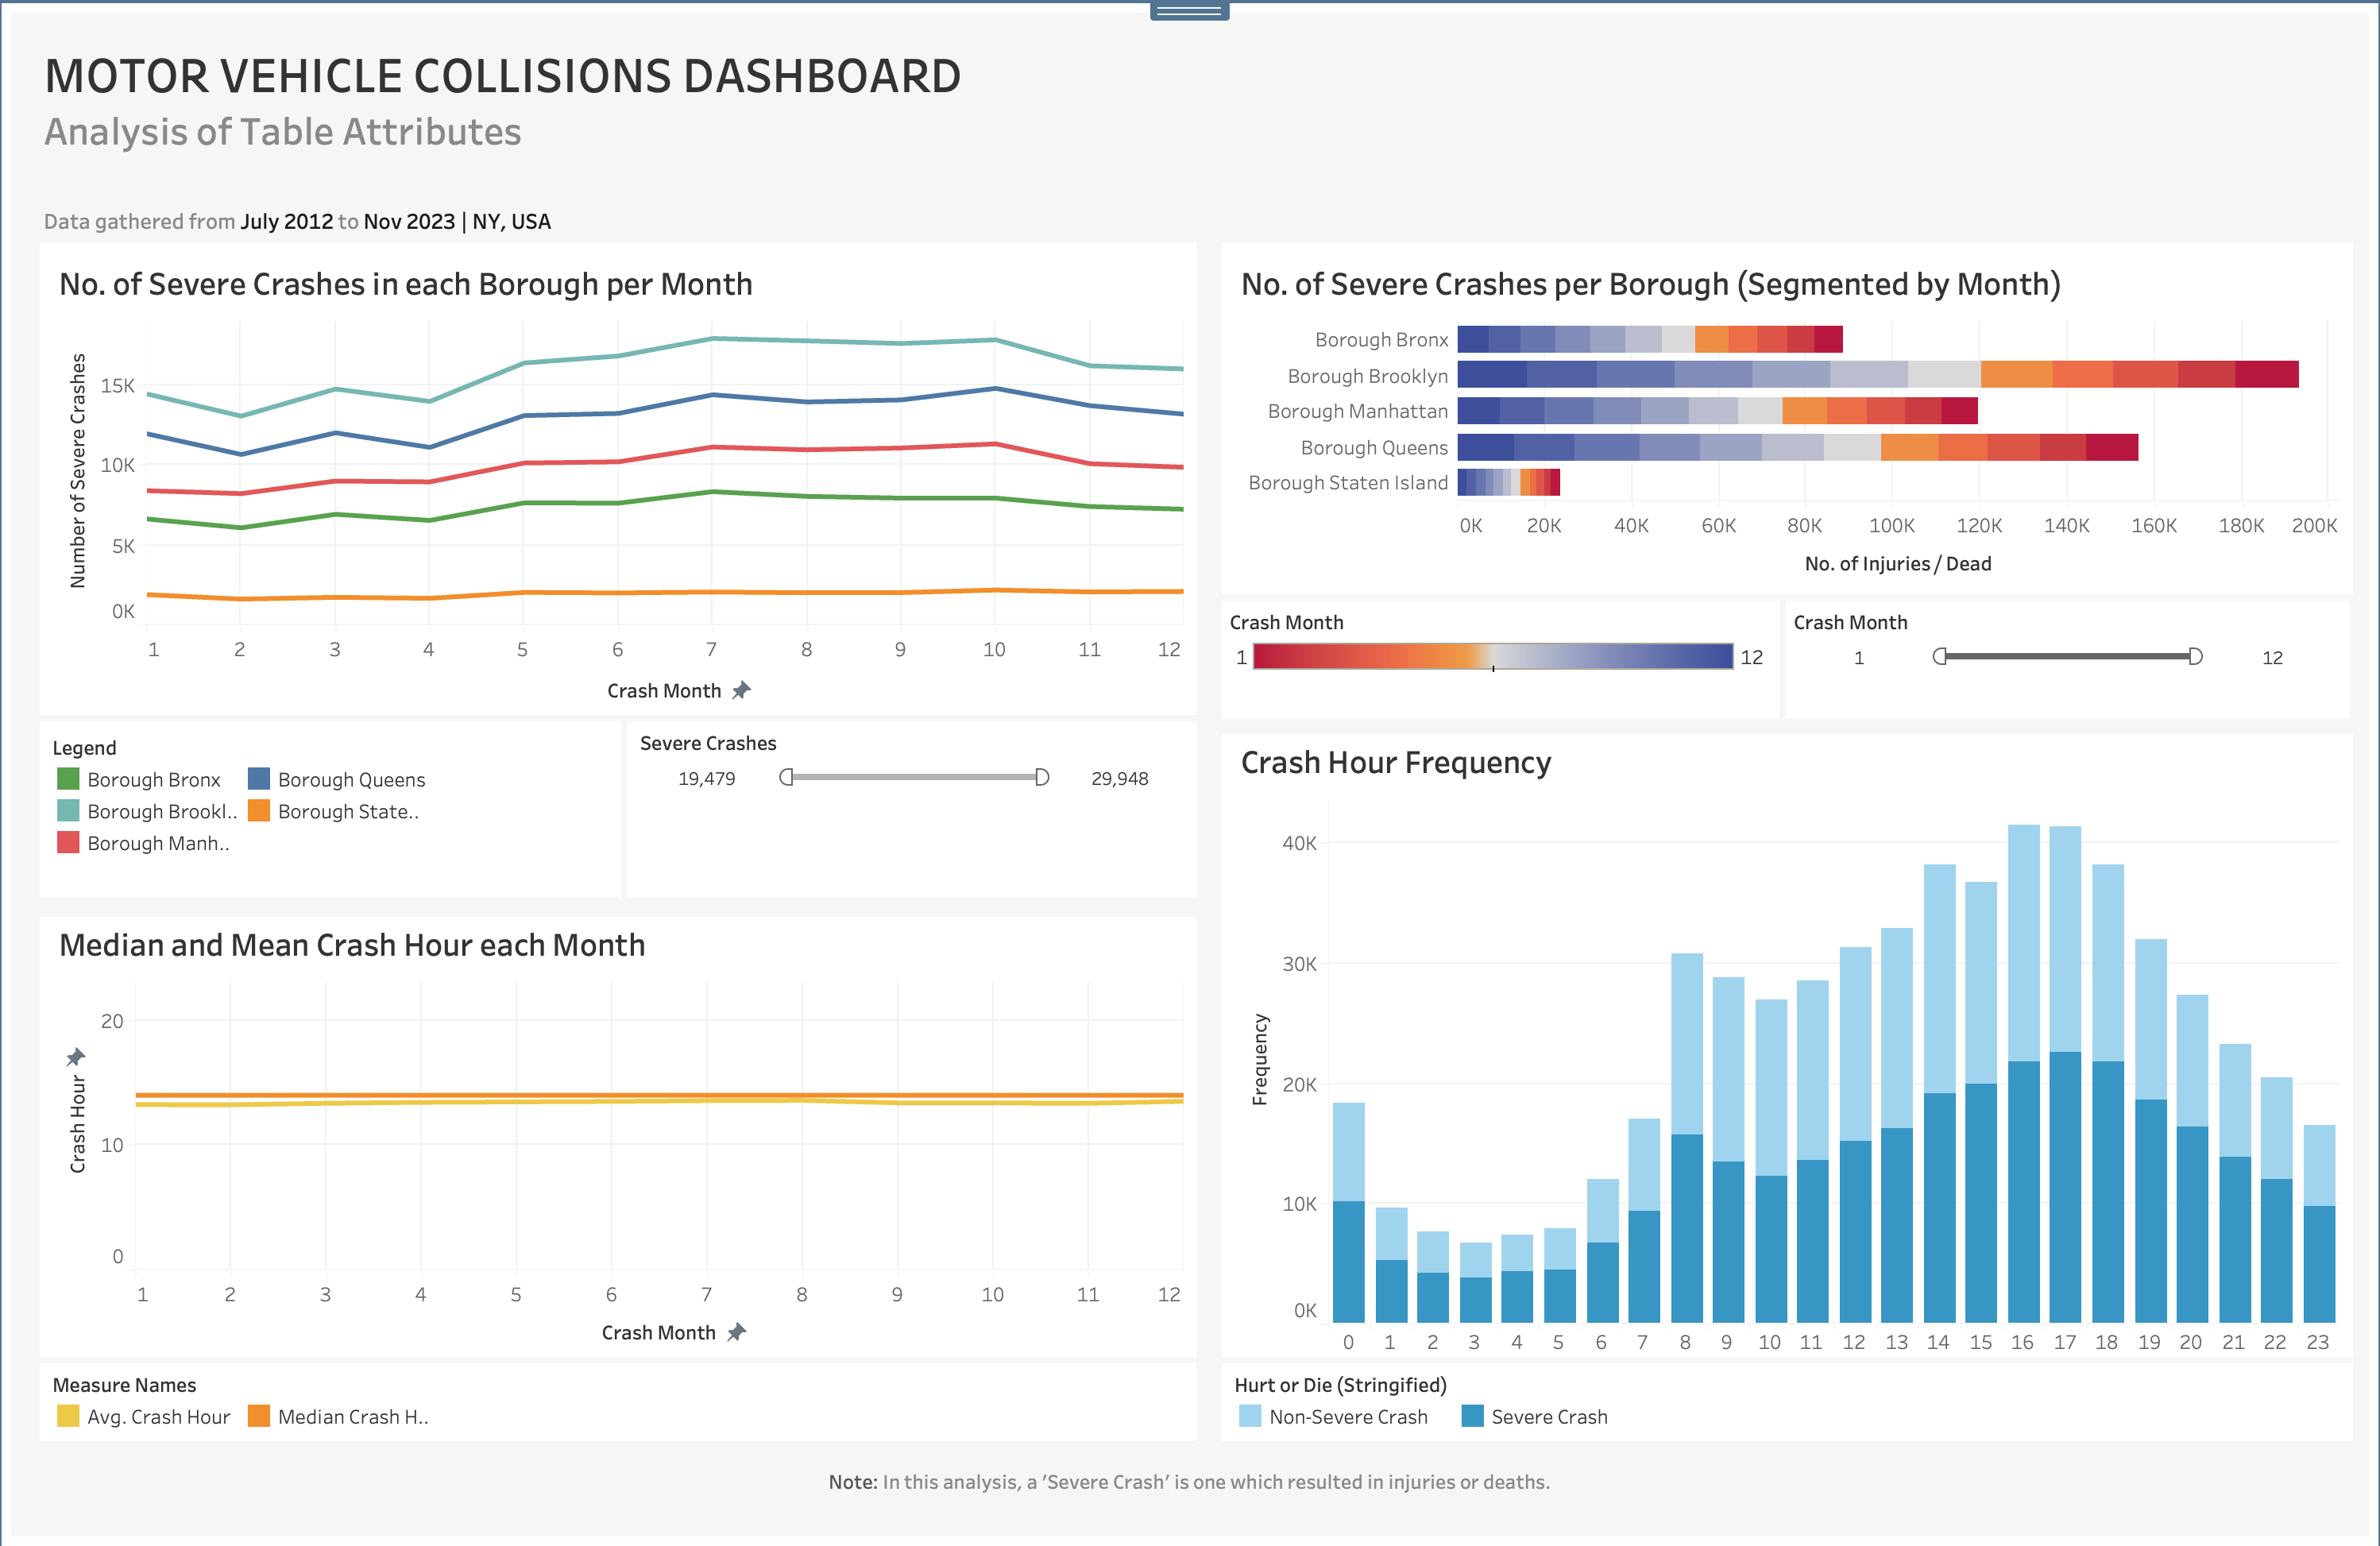

This screenshot's page, from the dashboard's own definition file:
{"tool":"tableau","page":{"name":"Dashboard for Report","canvas":[1500,975],"ordinal":1},"visuals":[{"type":"title","box":[18,18,1464,135]},{"type":"worksheet","title":"Line Graph (Severe Crashes vs Borough)","mark":"Automatic","cols":["CRASH MONTH"],"box":[18,153,751.9,301]},{"type":"worksheet","title":"Stacked Bar Chart (Severe Crashes per Borough)","mark":"Automatic","box":[769.9,153,712.1,220.6]},{"type":"legend","title":"Stacked Bar Chart (Severe Crashes per Borough)","param":"[federated.03vvh320lspjr412zural0ko115d].[none:CRASH MONTH:qk]","box":[769.9,373.6,351.2,80]},{"type":"filter","title":"Stacked Bar Chart (Severe Crashes per Borough)","param":"[federated.03vvh320lspjr412zural0ko115d].[none:CRASH MONTH:qk]","box":[1121.1,373.6,360.9,80]},{"type":"worksheet","title":"Crash Hour Frequency","mark":"Automatic","rows":["CRASH HOUR"],"cols":["Crash Hour (bin) 2"],"box":[769.9,453.6,712.1,404.1]},{"type":"legend","title":"Line Graph (Severe Crashes vs Borough)","param":"[federated.03vvh320lspjr412zural0ko115d].[:Measure Names]","box":[18,454,376,114.9]},{"type":"filter","title":"Line Graph (Severe Crashes vs Borough)","param":"[federated.03vvh320lspjr412zural0ko115d].[sum:HURT OR DIE:qk]","box":[394,454,375.9,114.9]},{"type":"worksheet","title":"Crash Hour vs Crash Month (Step Graph)","mark":"Automatic","cols":["CRASH MONTH"],"box":[18,568.9,751.9,288.9]},{"type":"legend","title":"Crash Hour vs Crash Month (Step Graph)","param":"[federated.03vvh320lspjr412zural0ko115d].[:Measure Names]","box":[18,857.8,751.9,49.4]},{"type":"legend","title":"Crash Hour Frequency","param":"[federated.03vvh320lspjr412zural0ko115d].[none:Calculation_776870963108761603:nk","box":[769.9,857.8,712.1,49.4]},{"type":"text","box":[18,907.2,1464,49.8]}]}

Visuals, with their boxes in screenshot pixels (x1, y1, x2, y2), scaled from the page's 1500x975 canvas onto the 2380x1546 screenshot:
title: select_region(29, 29, 2351, 242)
"Line Graph (Severe Crashes vs Borough)" worksheet: select_region(29, 242, 1222, 720)
"Stacked Bar Chart (Severe Crashes per Borough)" worksheet: select_region(1222, 242, 2351, 593)
"Stacked Bar Chart (Severe Crashes per Borough)" legend: select_region(1222, 593, 1779, 719)
"Stacked Bar Chart (Severe Crashes per Borough)" filter: select_region(1779, 593, 2351, 719)
"Crash Hour Frequency" worksheet: select_region(1222, 719, 2351, 1360)
"Line Graph (Severe Crashes vs Borough)" legend: select_region(29, 720, 625, 902)
"Line Graph (Severe Crashes vs Borough)" filter: select_region(625, 720, 1222, 902)
"Crash Hour vs Crash Month (Step Graph)" worksheet: select_region(29, 902, 1222, 1360)
"Crash Hour vs Crash Month (Step Graph)" legend: select_region(29, 1360, 1222, 1439)
"Crash Hour Frequency" legend: select_region(1222, 1360, 2351, 1439)
text: select_region(29, 1439, 2351, 1517)
